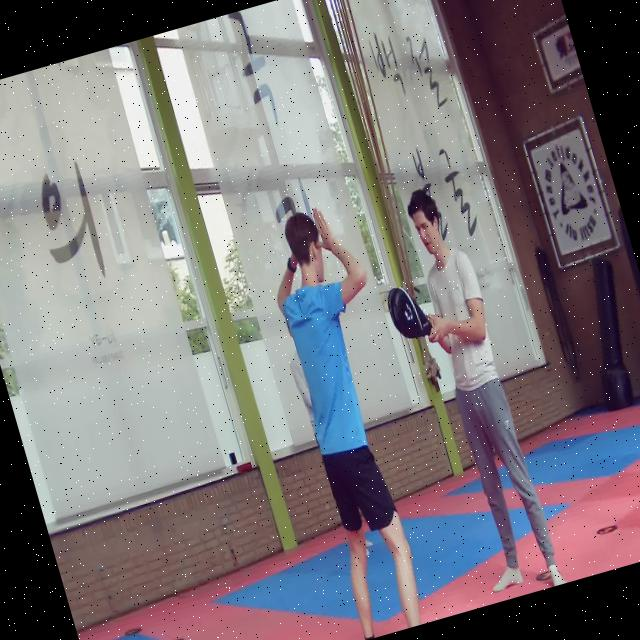paddle: (388, 287, 432, 336)
